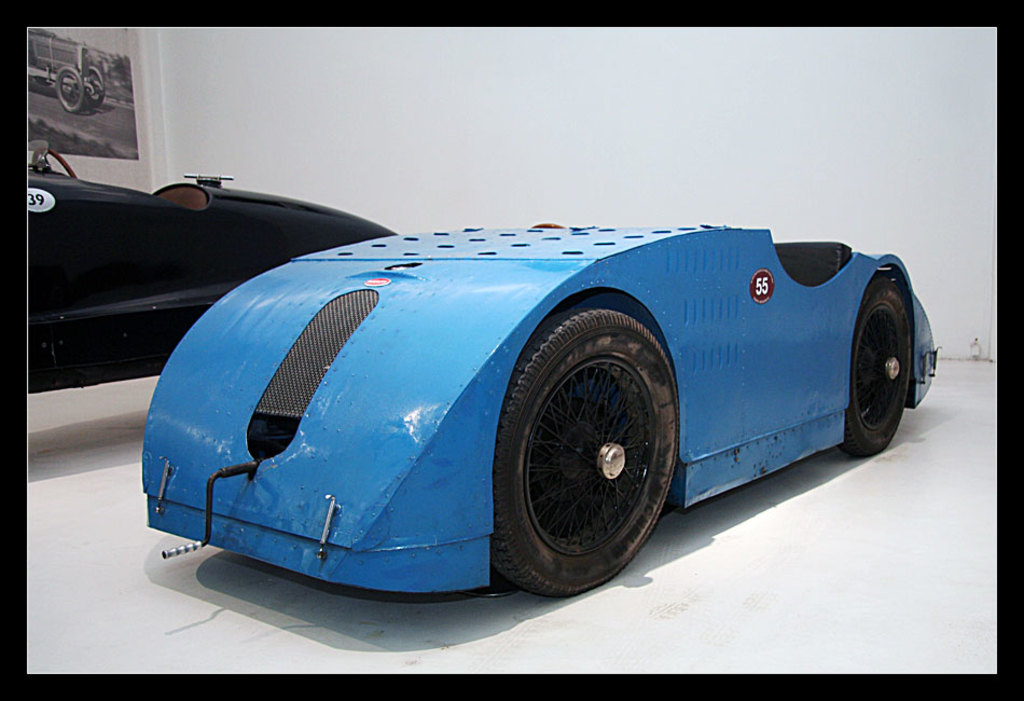Car: (128, 169, 924, 605), (29, 140, 396, 387)
